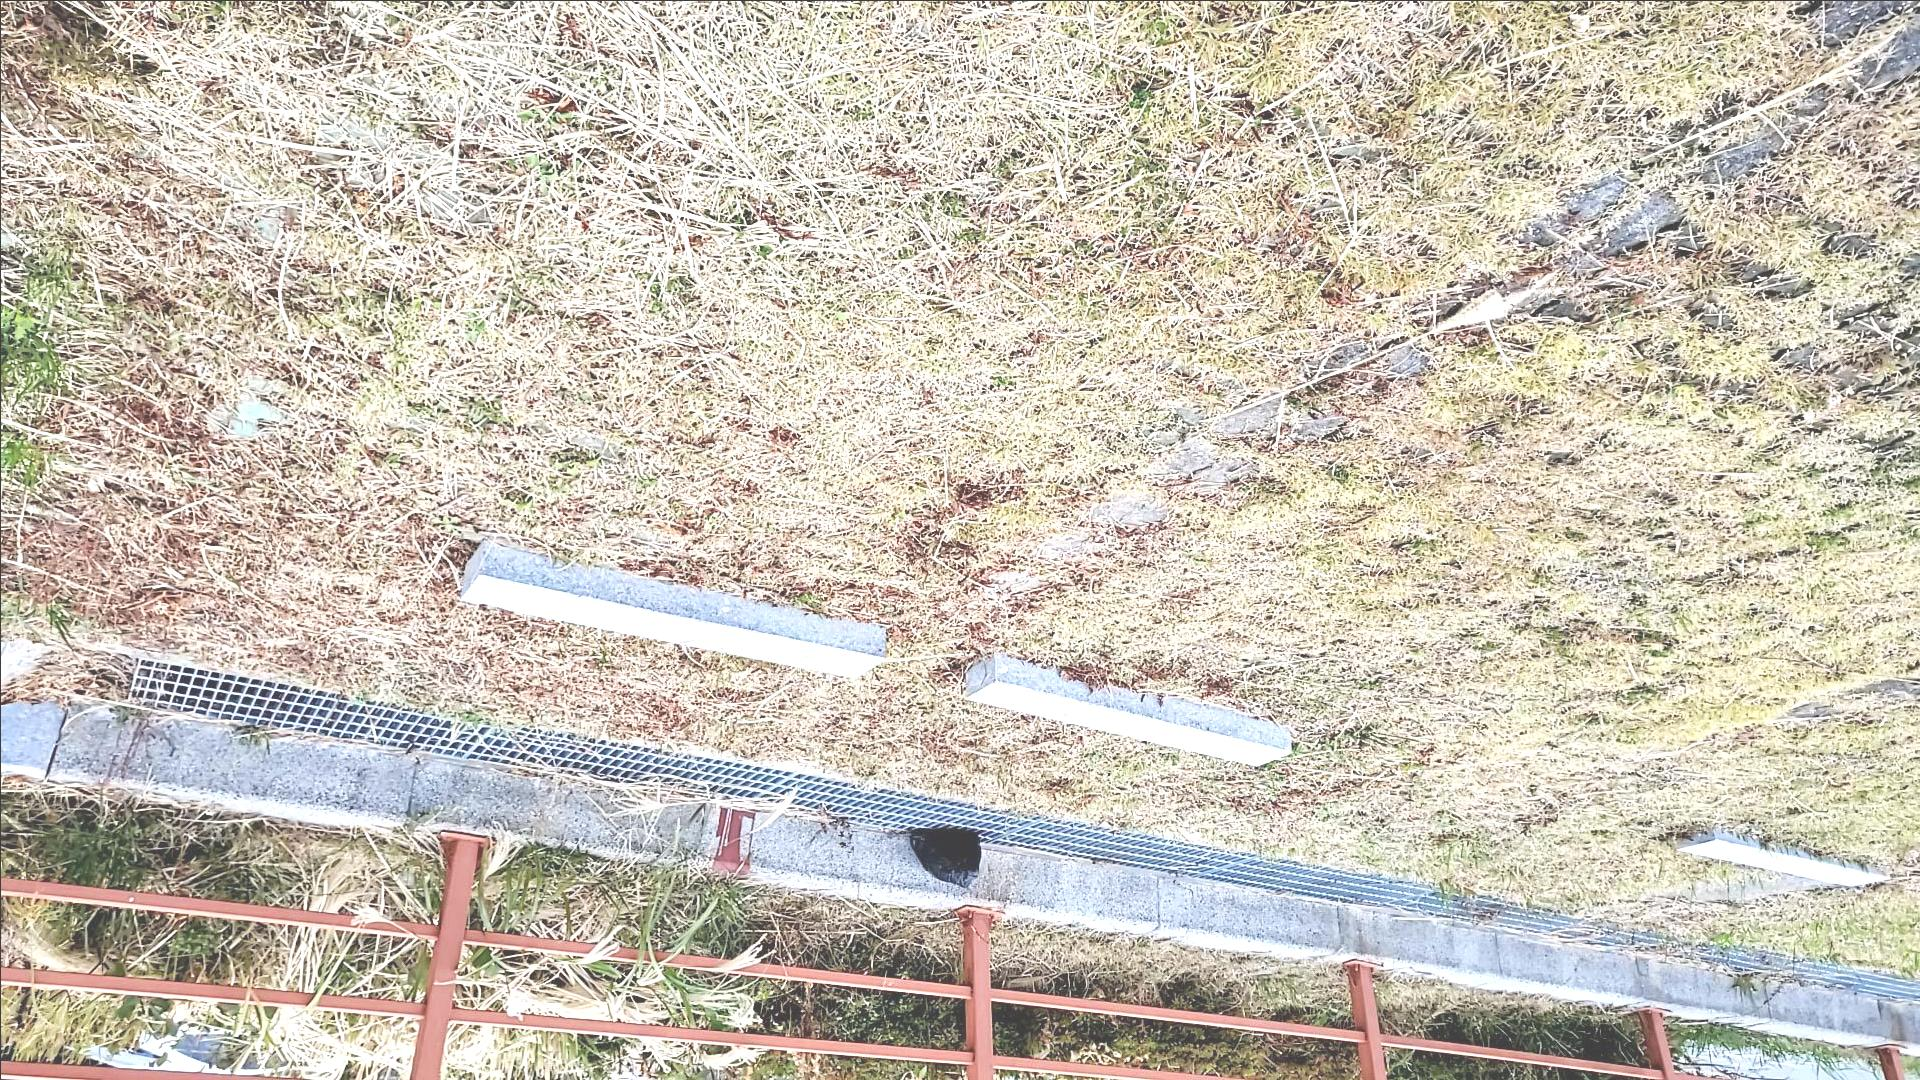black_bag: (906, 823, 988, 897)
